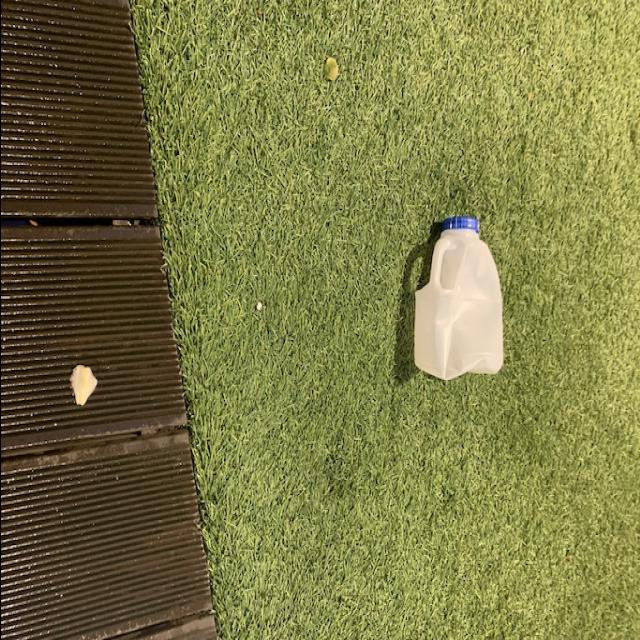HDPEM: (405, 208, 507, 386)
